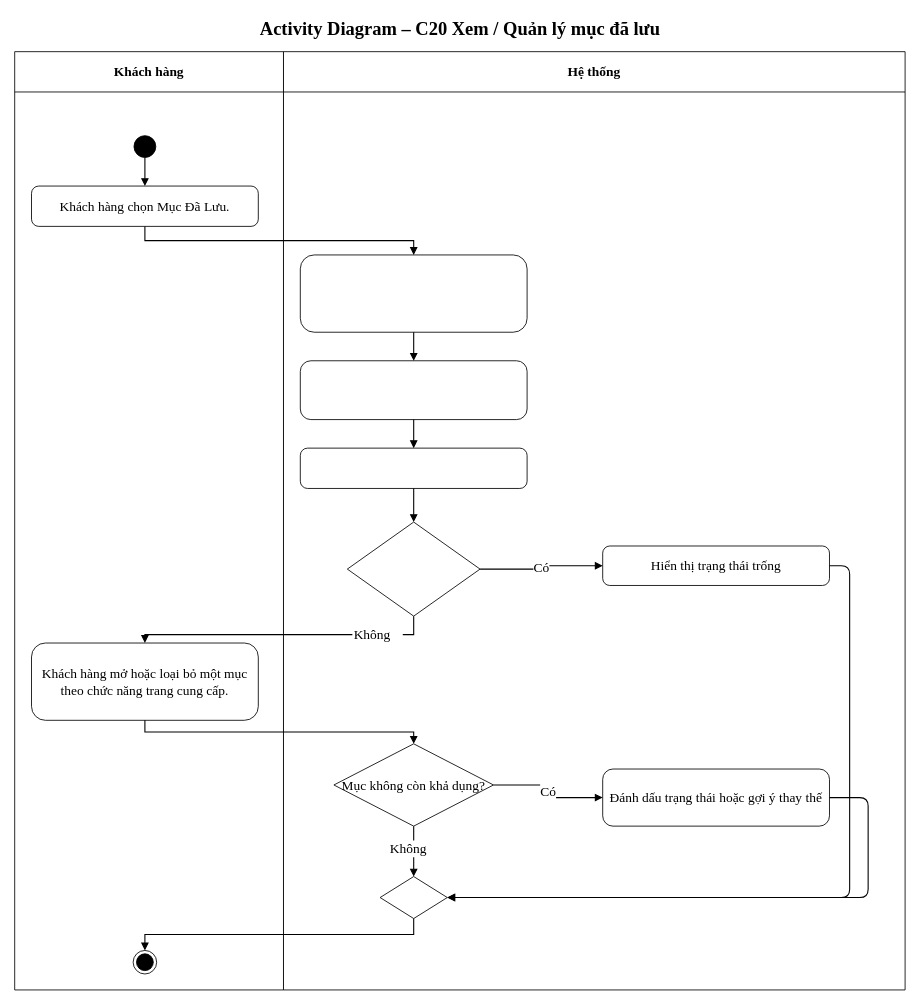
Some shapes in this 920 by 1005 pixel diagram are drawn without their labels. The shapes that lost their labels are listed below. From the top down, each one's box as (x1, y1, x2, y2) in pixels, then its label:
(299, 254, 527, 332): Use case thực hiện C16 – Đăng nhập nếu chưa có phiên hợp lệ.
(299, 360, 527, 420): Hệ thống tải danh sách mục đã lưu của tài khoản.
(299, 447, 527, 488): Hệ thống hiển thị danh sách.
(346, 521, 480, 616): Chưa có mục đã lưu?
